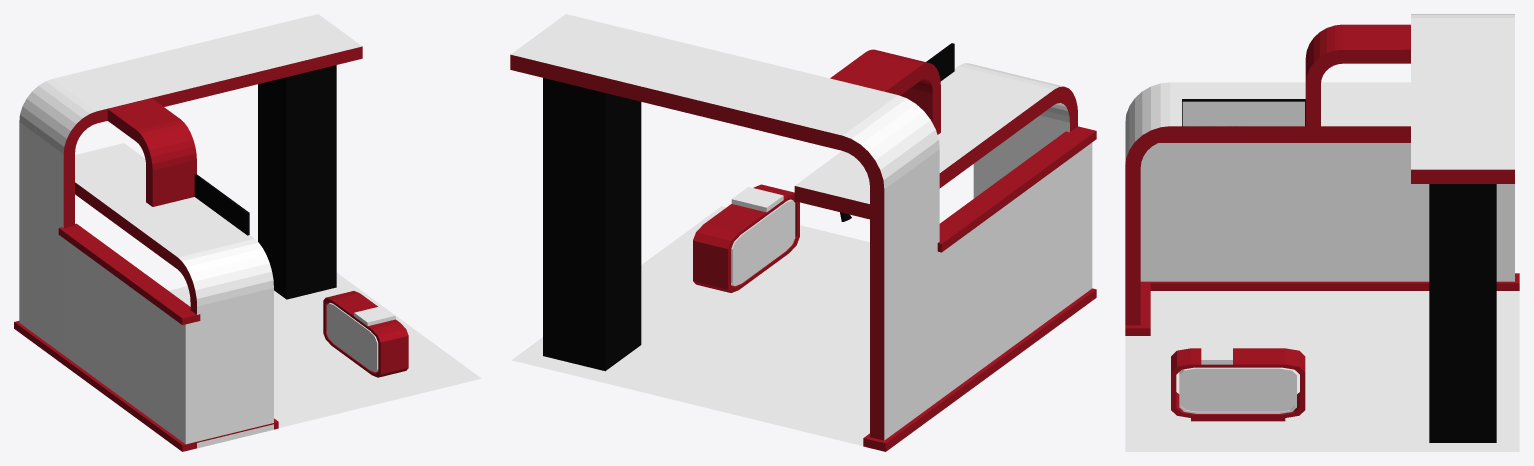
The model's file is Booth.fbx.
3 renders of one model, left to right at view 1: azimuth 30°, elevation 25°; view 2: azimuth 150°, elevation 25°; view 3: azimuth 270°, elevation 25°, orthographic. The views are drawn at different scales.
Visible parts, largest first — view 1: Plane.260, Plane.262, Cube.119, Cube.198, Plane.259, Plane.261, Cube.199, Plane.267; view 2: Plane.260, Plane.259, Cube.119, Cube.198, Plane.262, Cube.199, Plane.261, Plane.267; view 3: Plane.259, Cube.119, Plane.260, Cube.198, Plane.262, Cube.199, Plane.261, Plane.267.
Boxes of the visible parts, x1,y1,x2,y2 form: Plane.260: [14, 14, 362, 360]; Plane.262: [75, 143, 273, 448]; Cube.119: [58, 223, 278, 451]; Cube.198: [258, 65, 336, 299]; Plane.259: [169, 272, 481, 427]; Plane.261: [107, 98, 196, 206]; Cube.199: [323, 291, 408, 377]; Plane.267: [194, 174, 249, 235]; Plane.260: [510, 14, 945, 451]; Plane.259: [511, 206, 869, 445]; Cube.119: [937, 126, 1096, 410]; Cube.198: [543, 78, 641, 371]; Plane.262: [794, 63, 1077, 219]; Cube.199: [693, 184, 799, 292]; Plane.261: [830, 49, 940, 134]; Plane.267: [926, 43, 954, 81]; Plane.259: [1125, 291, 1519, 451]; Cube.119: [1125, 140, 1414, 335]; Plane.260: [1411, 14, 1519, 290]; Cube.198: [1429, 184, 1496, 442]; Plane.262: [1125, 82, 1410, 325]; Cube.199: [1171, 344, 1305, 421]; Plane.261: [1305, 24, 1410, 139]; Plane.267: [1182, 99, 1305, 126].
Bounding box in the file's own units: 414 × 318 × 400.
